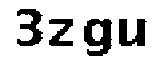3: (12, 5, 45, 50)
g: (81, 14, 116, 60)
u: (117, 13, 150, 51)
z: (45, 15, 81, 50)
